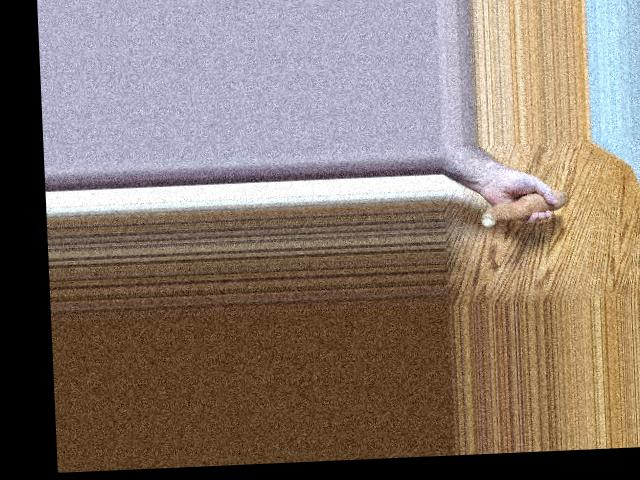sweet_potato: (472, 185, 560, 224)
